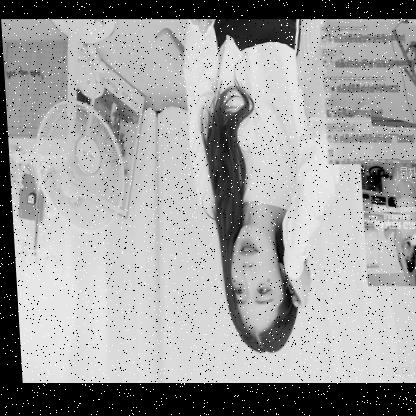streamer: (179, 19, 347, 355)
